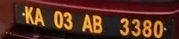0: (152, 20, 165, 39), (53, 10, 64, 28)
3: (63, 11, 75, 31), (119, 17, 131, 37), (131, 18, 141, 37)
8: (141, 19, 153, 37)
A: (35, 7, 47, 27), (82, 13, 93, 33)
B: (92, 14, 103, 34)
K: (23, 5, 36, 25)
